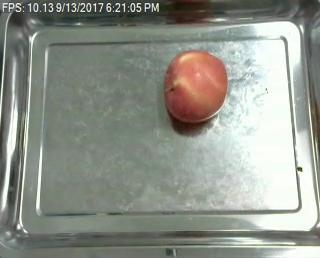apple: (165, 48, 229, 123)
